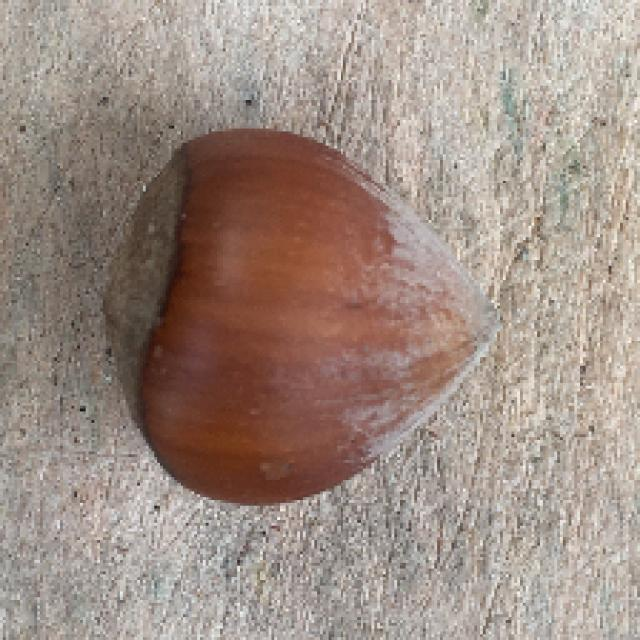qualityHazelnut: (106, 121, 494, 506)
